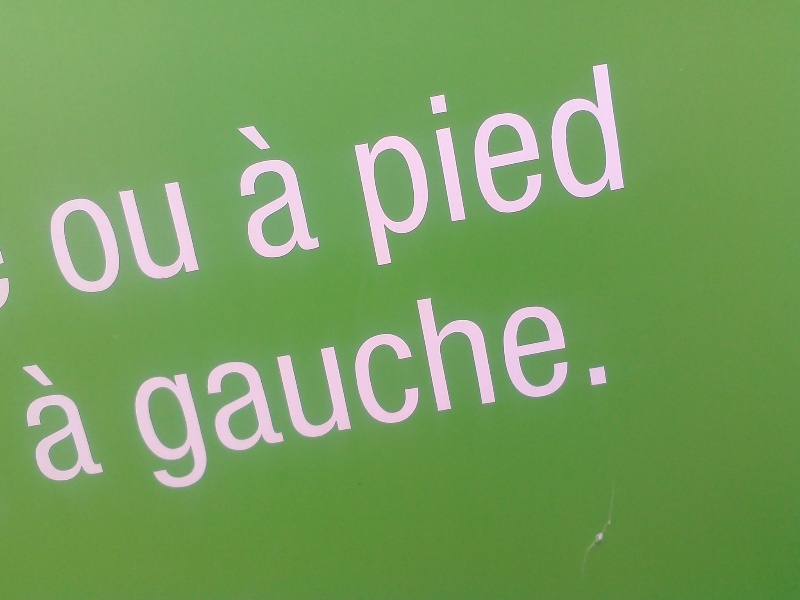text: (129, 270, 144, 495), (145, 270, 160, 495), (161, 270, 176, 495), (177, 270, 192, 495), (193, 270, 208, 495), (209, 270, 224, 495), (225, 270, 240, 495), (241, 270, 256, 495), (257, 270, 272, 495), (273, 270, 288, 495), (289, 270, 304, 495), (305, 270, 320, 495), (321, 270, 336, 495), (337, 270, 352, 495), (353, 270, 368, 495), (369, 270, 384, 495), (385, 270, 400, 495), (401, 270, 416, 495), (417, 270, 432, 495), (433, 270, 448, 495), (449, 270, 464, 495), (465, 270, 480, 495), (481, 270, 496, 495), (497, 270, 512, 495), (513, 270, 528, 495), (529, 270, 544, 495), (545, 270, 560, 495), (561, 270, 576, 495), (577, 270, 592, 495), (593, 270, 608, 495), (353, 63, 368, 269), (369, 63, 384, 269), (385, 63, 400, 269), (401, 63, 416, 269), (417, 63, 432, 269), (433, 63, 448, 269), (449, 63, 464, 269), (465, 63, 480, 269), (481, 63, 496, 269), (497, 63, 512, 269), (513, 63, 528, 269), (529, 63, 544, 269), (545, 63, 560, 269), (561, 63, 576, 269), (577, 63, 592, 269), (593, 63, 608, 269), (609, 63, 624, 269), (118, 270, 128, 495), (225, 118, 240, 265), (241, 118, 256, 265), (257, 118, 272, 265), (273, 118, 288, 265), (289, 118, 304, 265), (305, 118, 320, 265), (609, 270, 618, 495), (17, 358, 32, 490), (33, 358, 48, 490), (49, 358, 64, 490), (65, 358, 80, 490), (81, 358, 96, 490), (2, 358, 16, 490), (49, 177, 64, 300), (65, 177, 80, 300), (81, 177, 96, 300), (97, 177, 112, 300), (113, 177, 128, 300), (129, 177, 144, 300), (145, 177, 160, 300), (161, 177, 176, 300), (177, 177, 192, 300), (97, 358, 107, 490), (346, 63, 352, 269), (193, 177, 202, 300), (1, 242, 16, 309), (42, 177, 48, 300), (221, 118, 224, 265), (321, 118, 324, 265)
